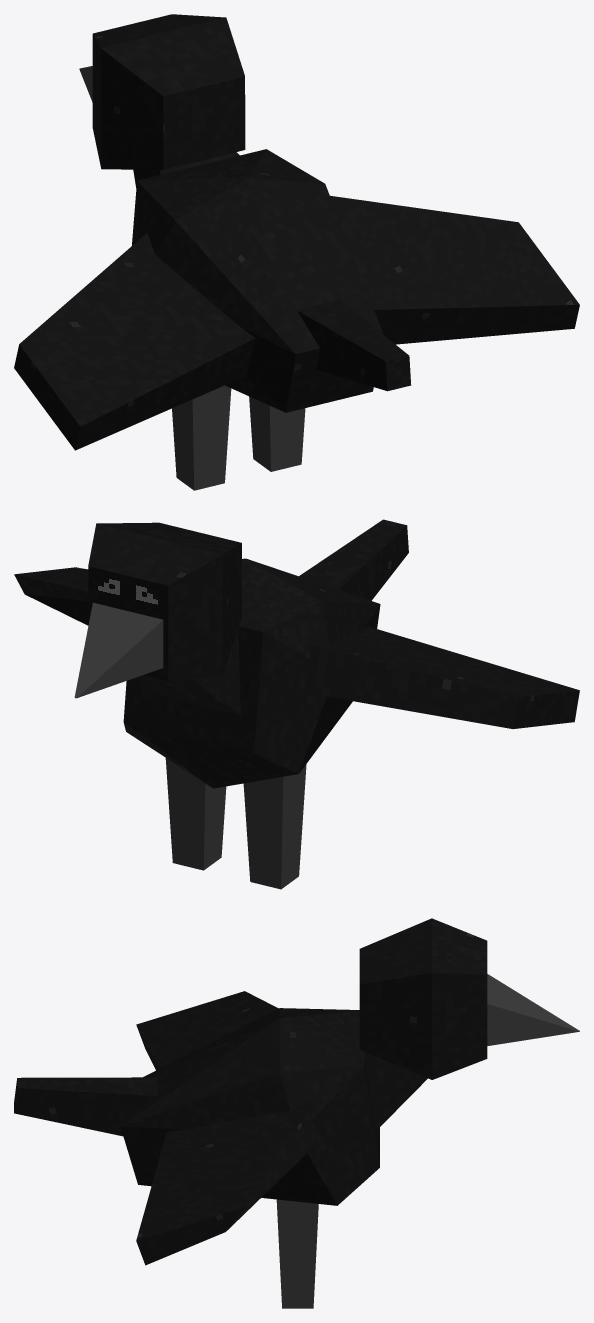
Rendered from Raven_Raven.glb.
The picture shows the model from 3 angles, top to bottom: view 1: azimuth 30°, elevation 25°; view 2: azimuth 150°, elevation 25°; view 3: azimuth 270°, elevation 25°; orthographic projection. The views are drawn at different scales.
Visible parts, largest first — view 1: Body, Wing1, Wing2, Head, Leg1, Leg2, Neck; view 2: Body, Head, Wing1, Leg1, Leg2, Neck, Wing2; view 3: Body, Head, Wing2, Wing1, Leg2, Neck.
Part boxes in pixels (<box>): Body: <box>132,149,411,412</box>; Wing1: <box>14,233,255,450</box>; Wing2: <box>330,195,579,344</box>; Head: <box>79,14,245,169</box>; Leg1: <box>172,385,231,490</box>; Leg2: <box>249,396,305,471</box>; Neck: <box>133,152,239,187</box>; Body: <box>123,519,408,788</box>; Head: <box>74,522,241,698</box>; Wing1: <box>303,626,579,728</box>; Leg1: <box>243,764,306,889</box>; Leg2: <box>165,758,226,870</box>; Neck: <box>136,629,240,715</box>; Wing2: <box>14,567,88,625</box>; Body: <box>14,1008,379,1205</box>; Head: <box>359,918,579,1079</box>; Wing2: <box>136,1099,321,1265</box>; Wing1: <box>136,991,278,1070</box>; Leg2: <box>276,1199,318,1308</box>; Neck: <box>365,1052,427,1131</box>.
Size of the model in its own units: 0.9117 by 0.668 by 1.01.
Materials: 1 (1 with a texture image).
